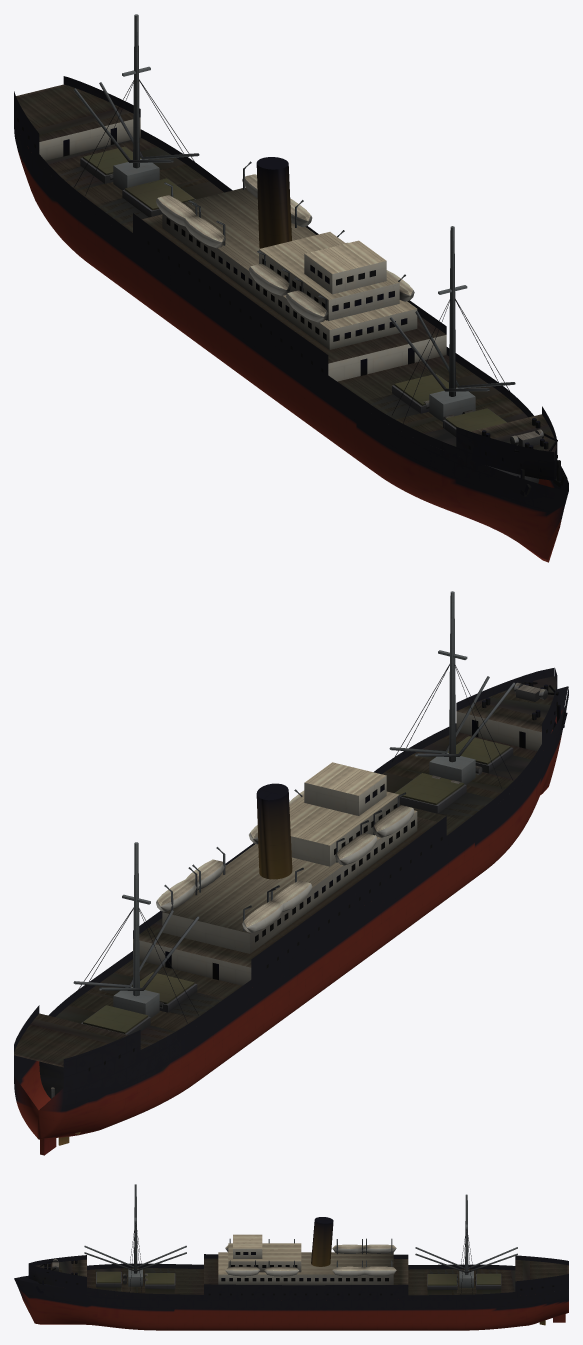
The model's file is model_built.glb.
3 views of the same model, one above another, from view 1: azimuth 30°, elevation 25°; view 2: azimuth 150°, elevation 25°; view 3: azimuth 270°, elevation 25° (orthographic). The views are drawn at different scales.
Parts seen in each view (by area): view 1: main; view 2: main; view 3: main.
Boxes of the visible parts, x1,y1,x2,y2 form: main: [14, 14, 568, 562]; main: [14, 591, 568, 1155]; main: [14, 1184, 568, 1330].
Bounding box in the file's own units: 14.82 × 31.75 × 114.
Materials: 2 (2 with a texture image).
